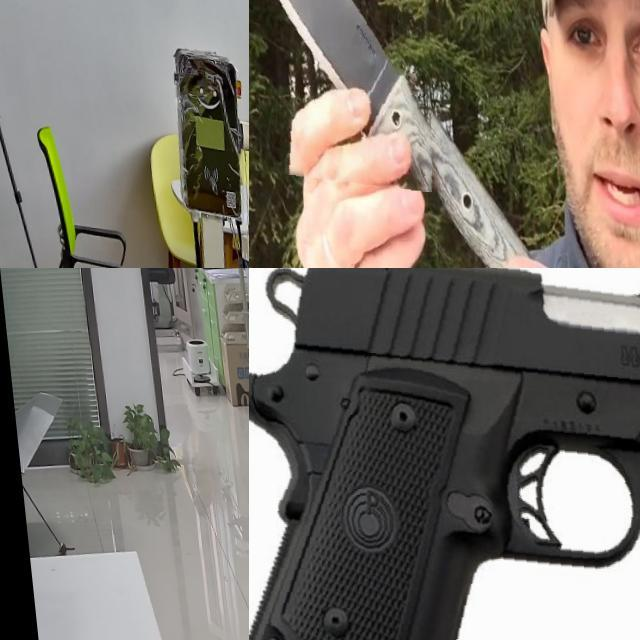-: (249, 0, 444, 186)
gun-knife-thesis - v11 Yolov5 augmented: (249, 268, 640, 640), (0, 0, 23, 46)
